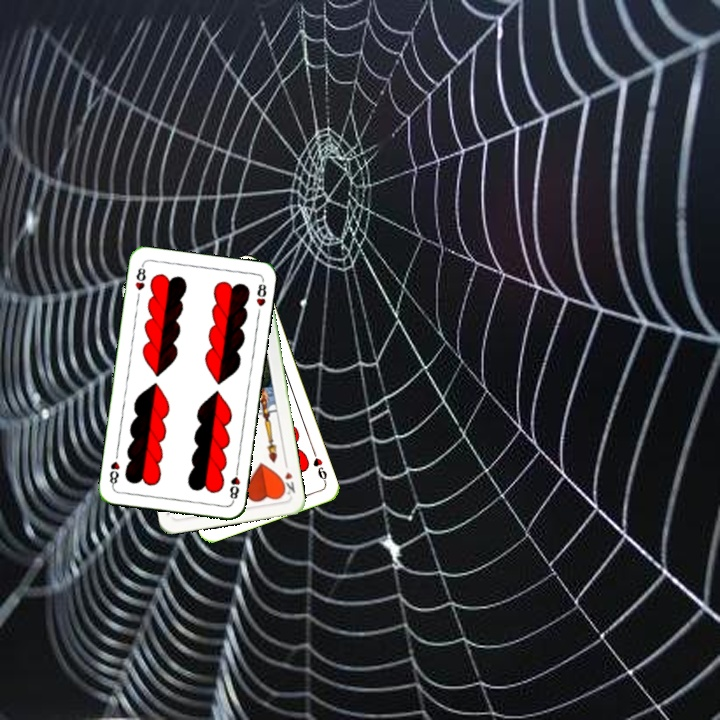H8: (226, 464, 242, 504), (131, 261, 149, 293)
H9: (308, 447, 329, 486)
HK: (277, 458, 297, 497)
